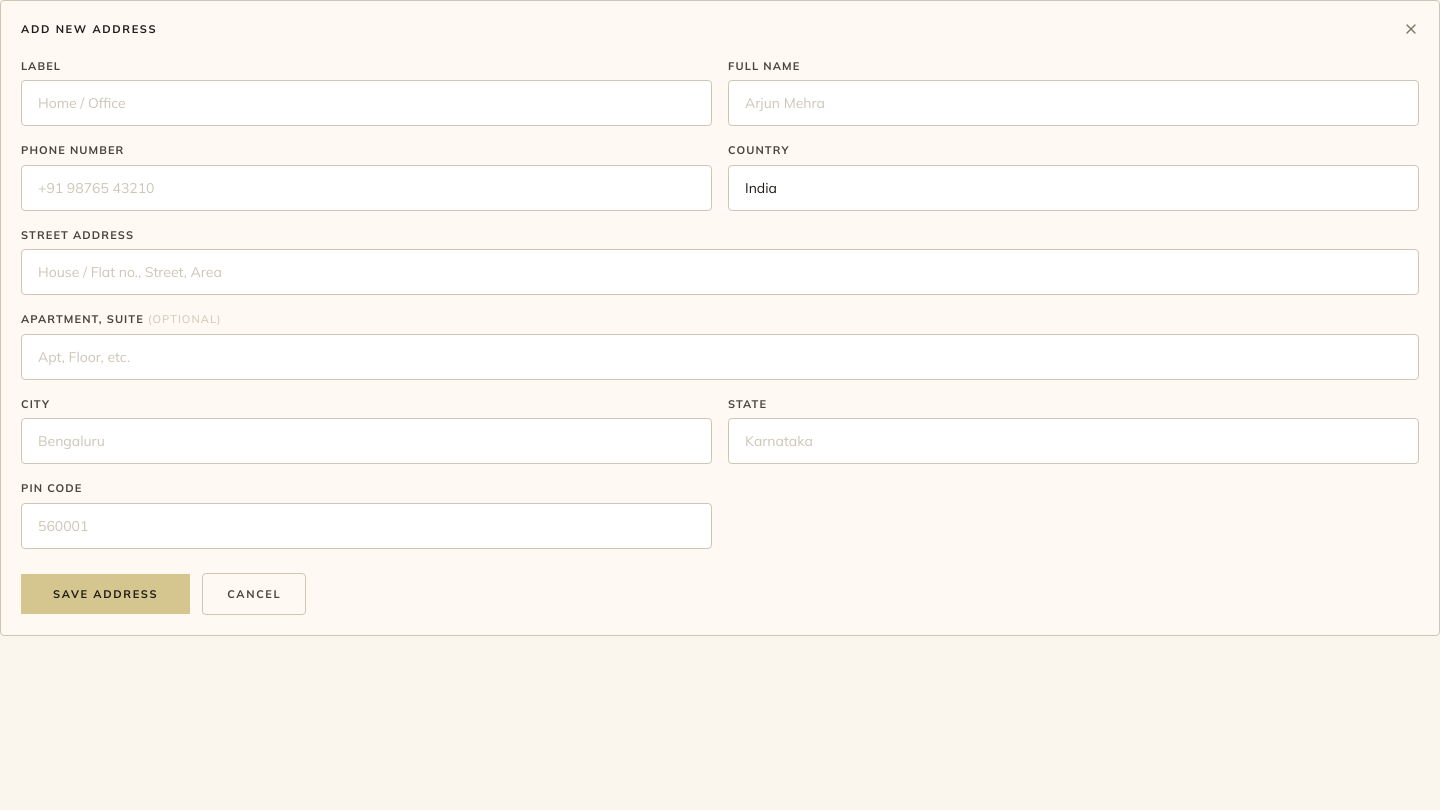
AddressForm › strips digits typed into the full name field
Type "Arjun123" into the field with test id "input-full-name" at (1074,103), box x1=728 y1=80 x2=1419 y2=126
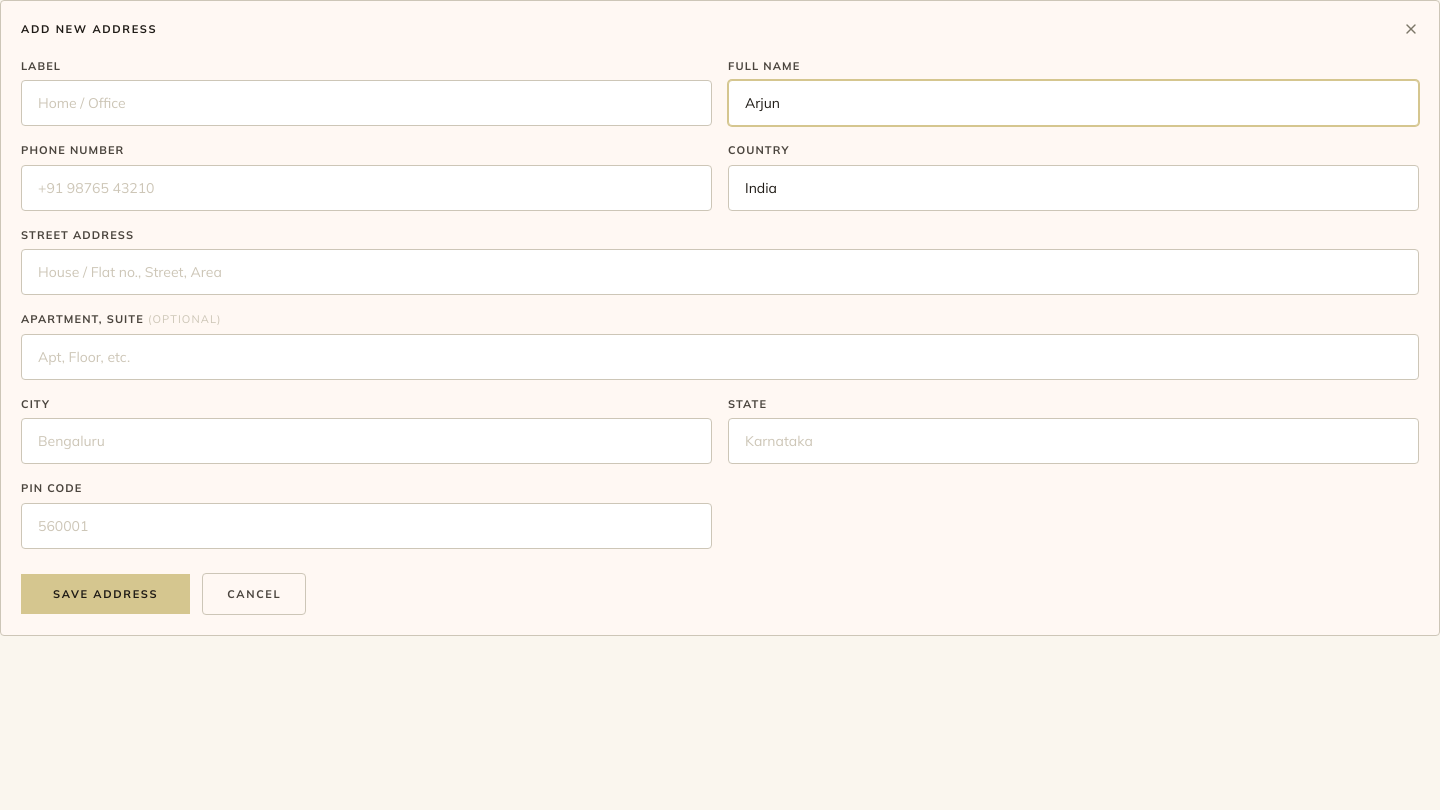
Check: the field with test id "input-full-name" holds "Arjun", box x1=728 y1=80 x2=1419 y2=126
